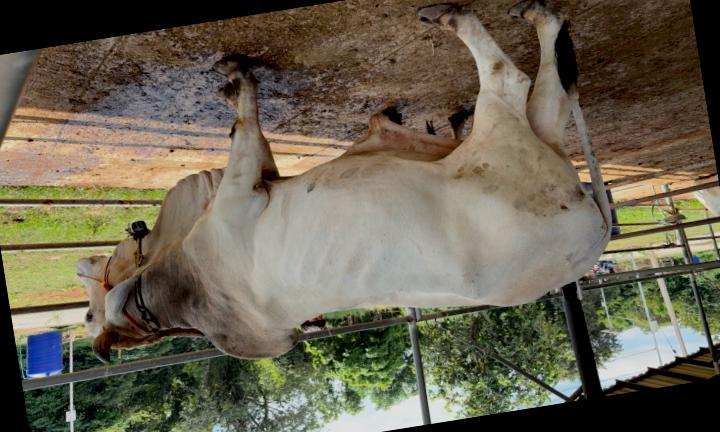Brahman: (78, 0, 612, 362)
